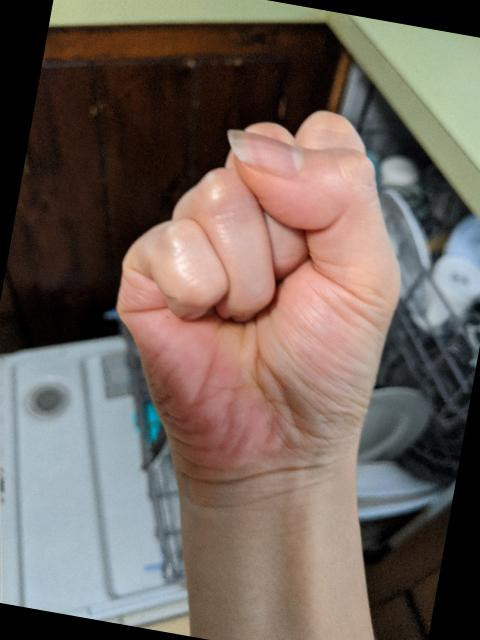S: (77, 74, 434, 528)
